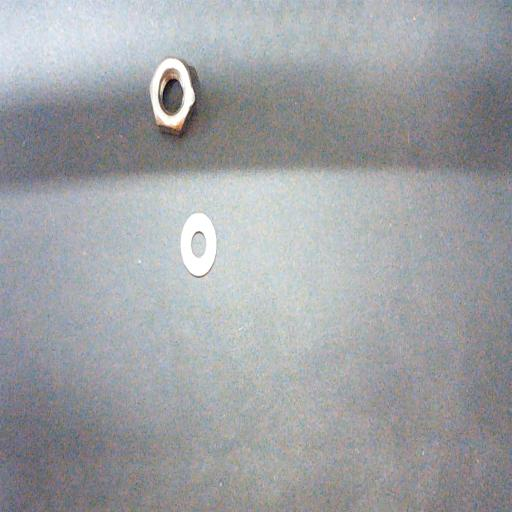nut: (150, 56, 195, 136)
washer: (181, 212, 217, 277)
